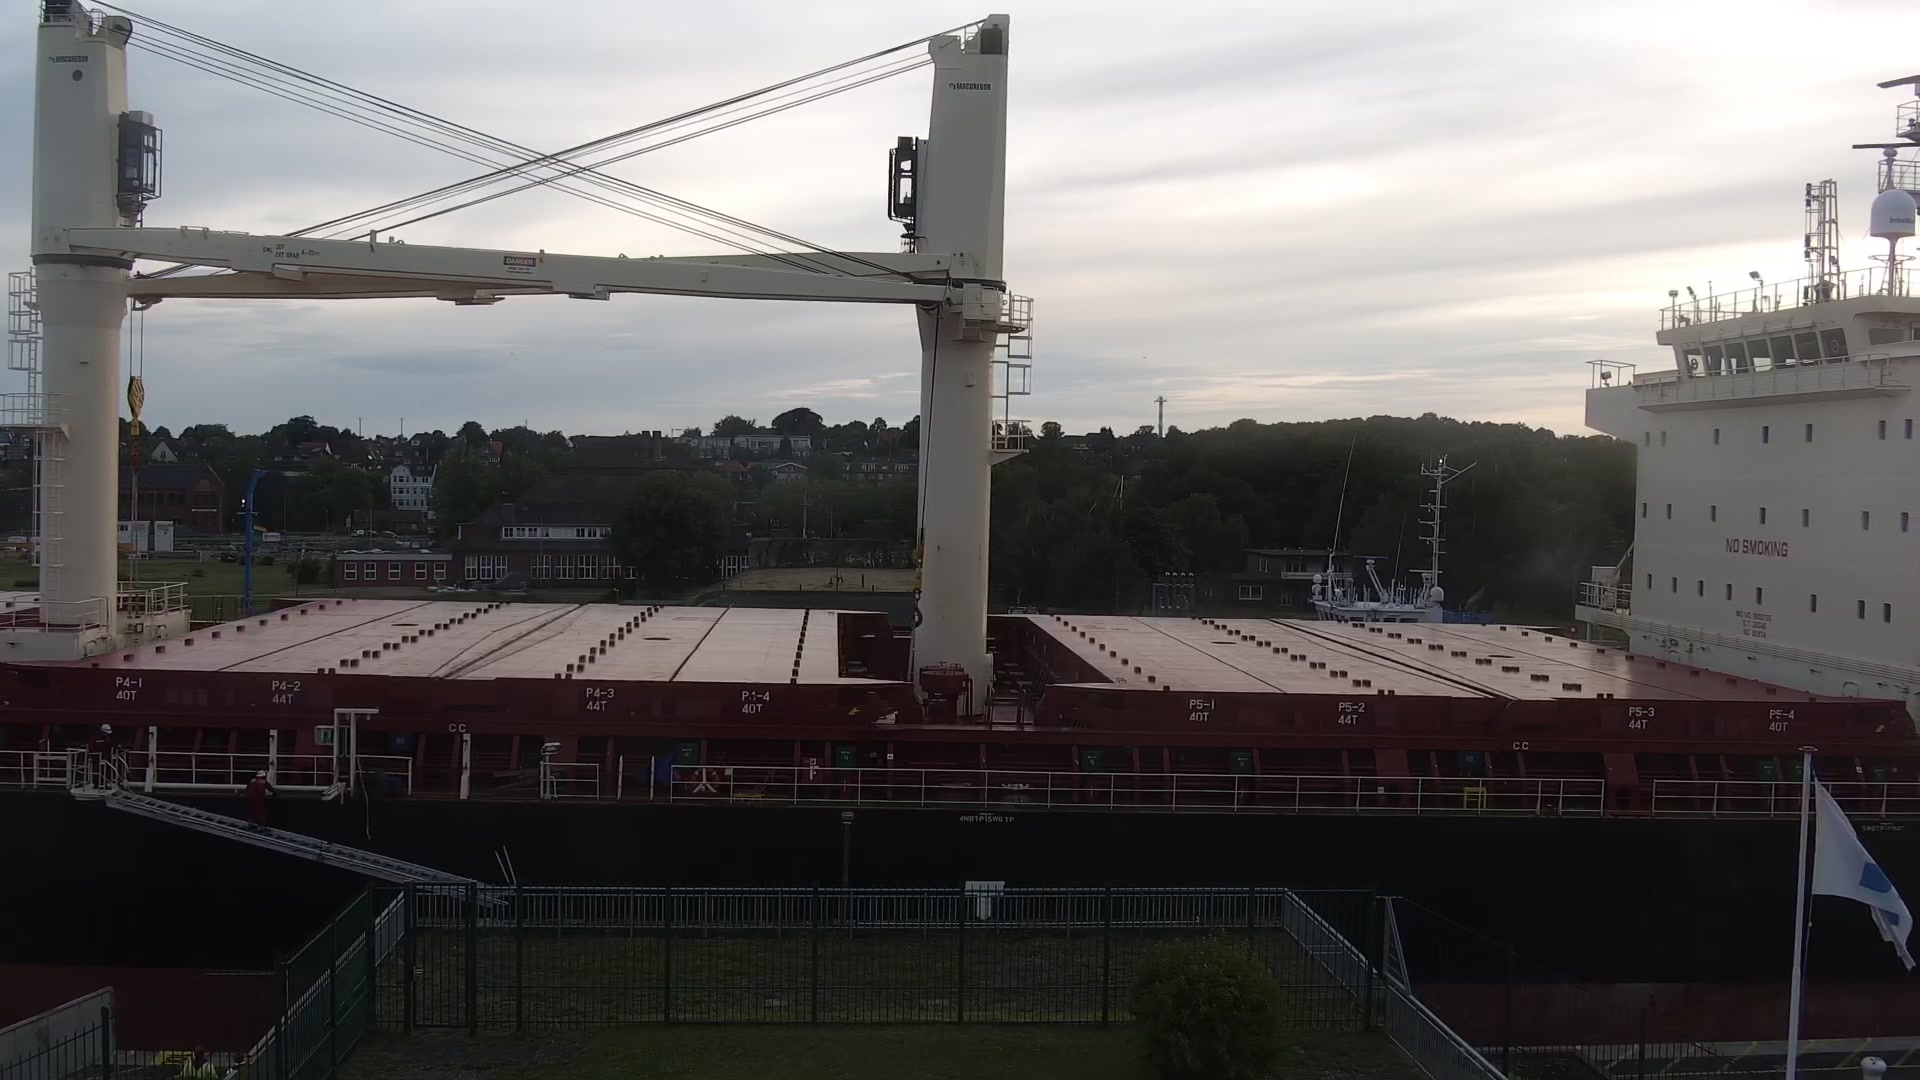human: (243, 769, 275, 833), (88, 722, 112, 790), (180, 1045, 218, 1079), (224, 1051, 247, 1080)
land: (380, 529, 398, 537), (365, 529, 381, 537), (351, 528, 365, 536)
sea: (1, 1, 1919, 1051)
